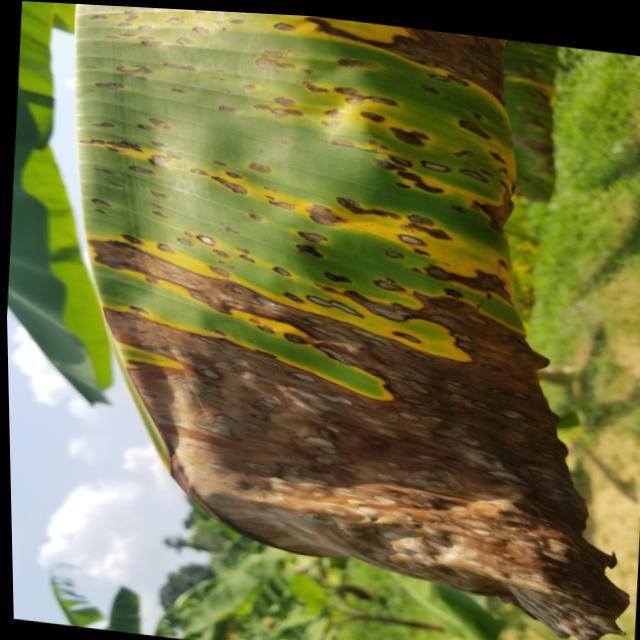Early_rust: (40, 0, 585, 635)
